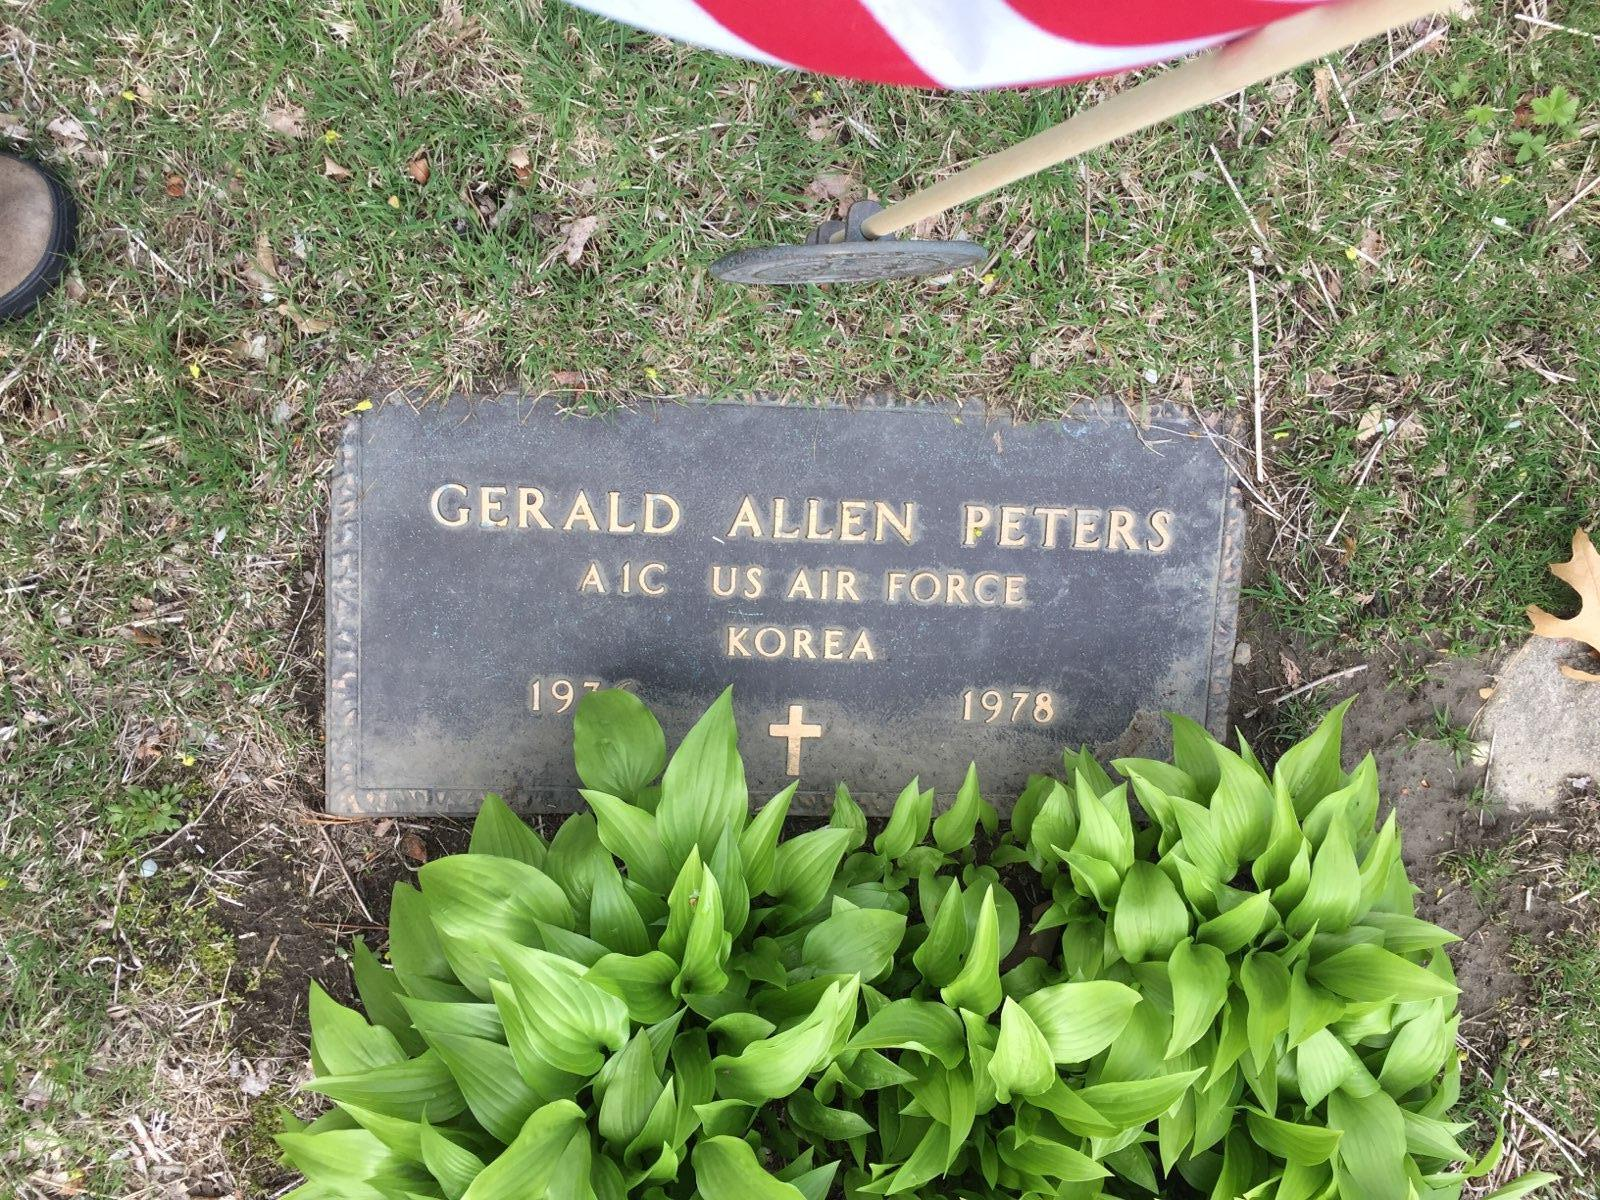flat: (328, 395, 1249, 839)
